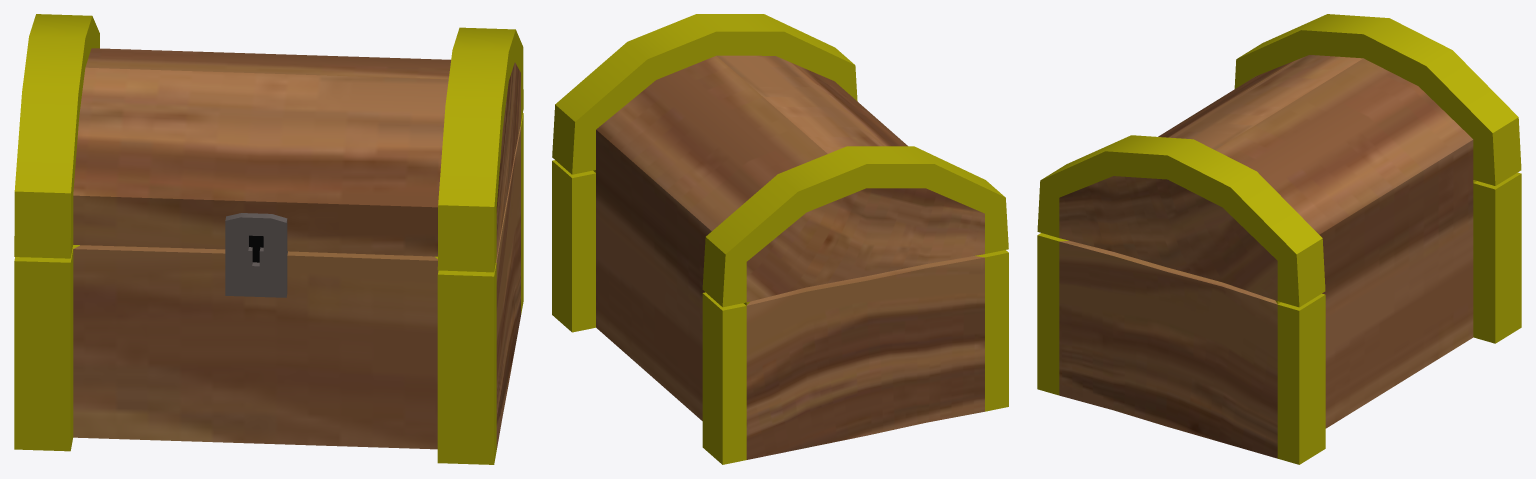
The model's file is cofre.fbx.
The picture shows the model from 3 angles, left to right: view 1: azimuth 30°, elevation 25°; view 2: azimuth 150°, elevation 25°; view 3: azimuth 270°, elevation 25°; orthographic projection. The views are drawn at different scales.
Parts seen in each view (by area): view 1: Cofre; view 2: Cofre; view 3: Cofre.
Part boxes in pixels (bbox=[...]): Cofre: bbox=[14, 14, 523, 464]; Cofre: bbox=[552, 14, 1008, 464]; Cofre: bbox=[1037, 14, 1521, 464].
Size of the model in its own units: 439 by 261 by 421.
Materials: 4 (1 with a texture image).
